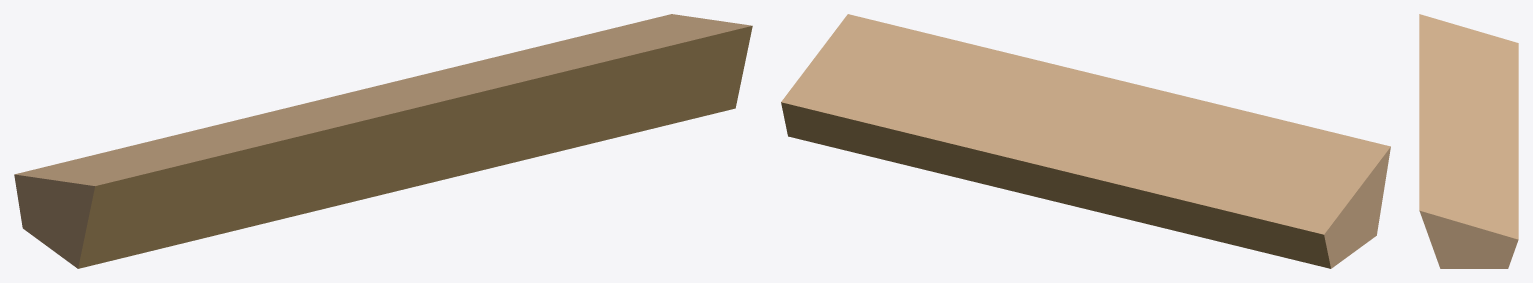
The model's file is Oak_Firewood_05_LOD.fbx.
3 views of the same model, side by side, from view 1: azimuth 30°, elevation 25°; view 2: azimuth 150°, elevation 25°; view 3: azimuth 270°, elevation 25° (orthographic). The views are drawn at different scales.
Visible parts, largest first — view 1: Oak_Firewood_05_LOD0; view 2: Oak_Firewood_05_LOD0; view 3: Oak_Firewood_05_LOD0.
Boxes of the visible parts, <box> form: Oak_Firewood_05_LOD0: <box>14,14,752,268</box>; Oak_Firewood_05_LOD0: <box>781,14,1390,268</box>; Oak_Firewood_05_LOD0: <box>1419,14,1518,268</box>.
Size of what is drawn, in the model's own units: 56 by 7.76 by 11.95.
